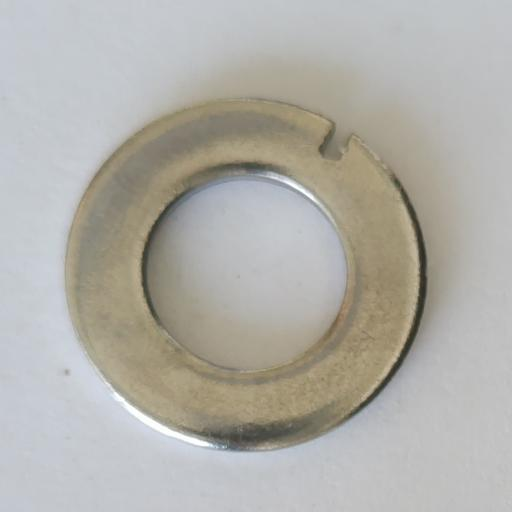burr: (318, 122, 354, 162)
